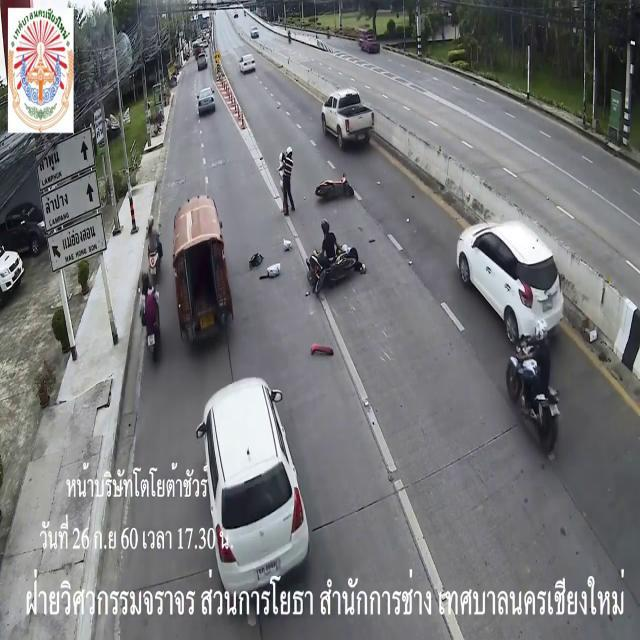multiple_accident: (273, 210, 388, 303), (298, 158, 370, 208)
normal: (167, 352, 333, 628), (420, 180, 600, 370), (472, 323, 587, 472), (100, 203, 187, 368), (320, 77, 405, 175), (188, 88, 243, 128)
